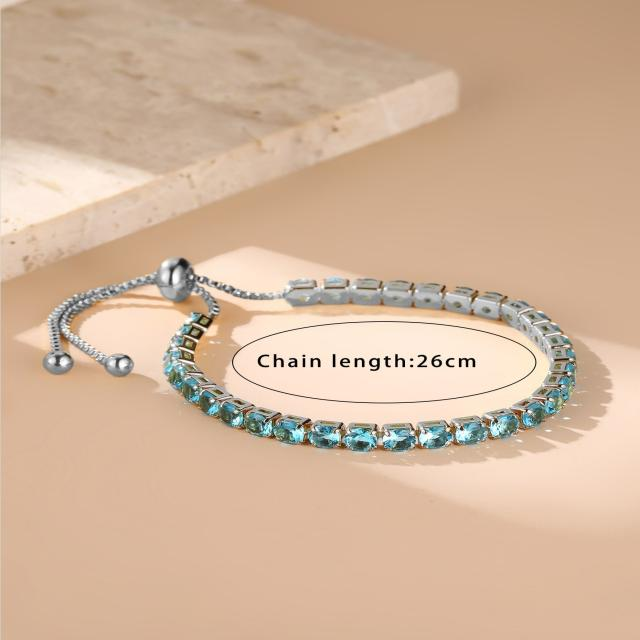bracelet: (21, 166, 640, 478)
